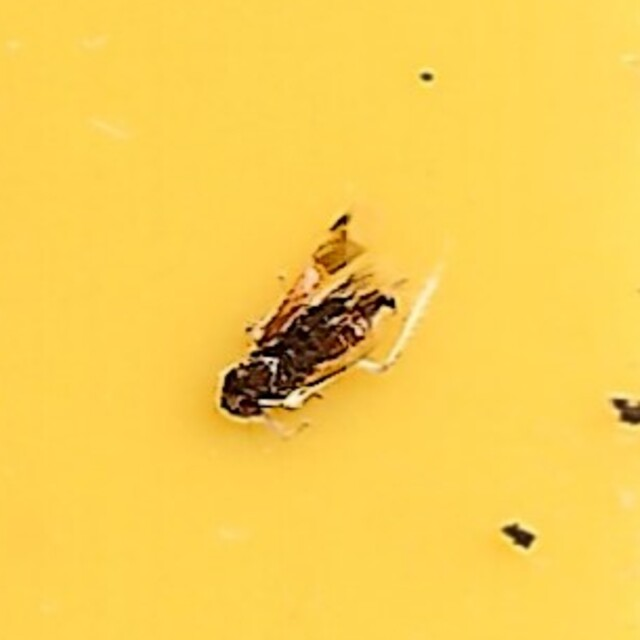Hemiptera: (210, 211, 430, 429)
